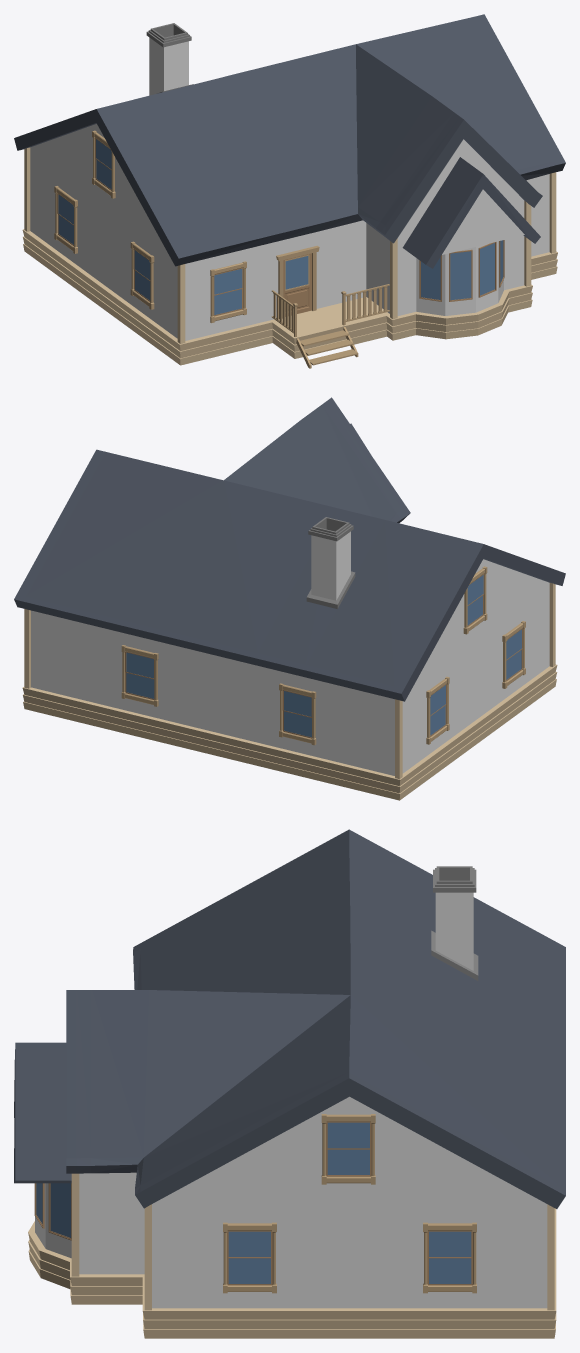
Rendered from house.dae.
3 renders of one model, top to bottom at view 1: azimuth 30°, elevation 25°; view 2: azimuth 150°, elevation 25°; view 3: azimuth 270°, elevation 25°, orthographic. The views are drawn at different scales.
Parts seen in each view (by area): view 1: low poly house; view 2: low poly house; view 3: low poly house.
Part boxes in pixels (x1,y1,x2,y2): low poly house: (14,14,565,368); low poly house: (14,397,565,800); low poly house: (14,829,565,1338).
Size of the model in its own units: 14.71 by 13.8 by 8.05.
Materials: 1 (1 with a texture image).
